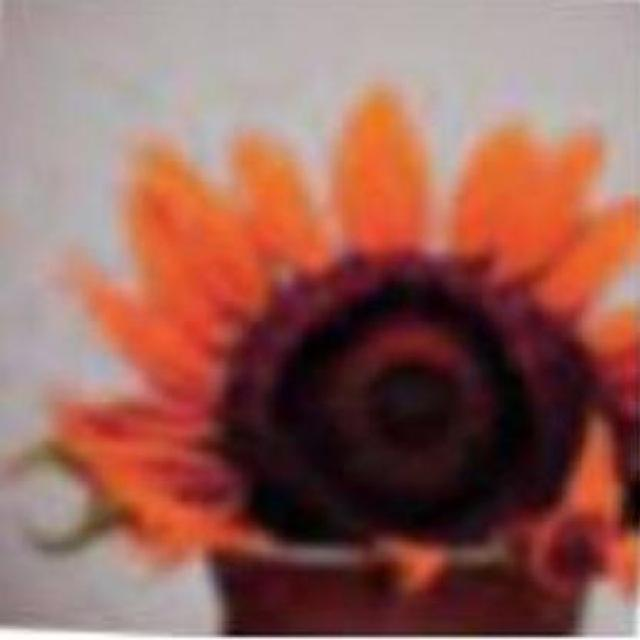sunflower: (49, 102, 640, 563)
